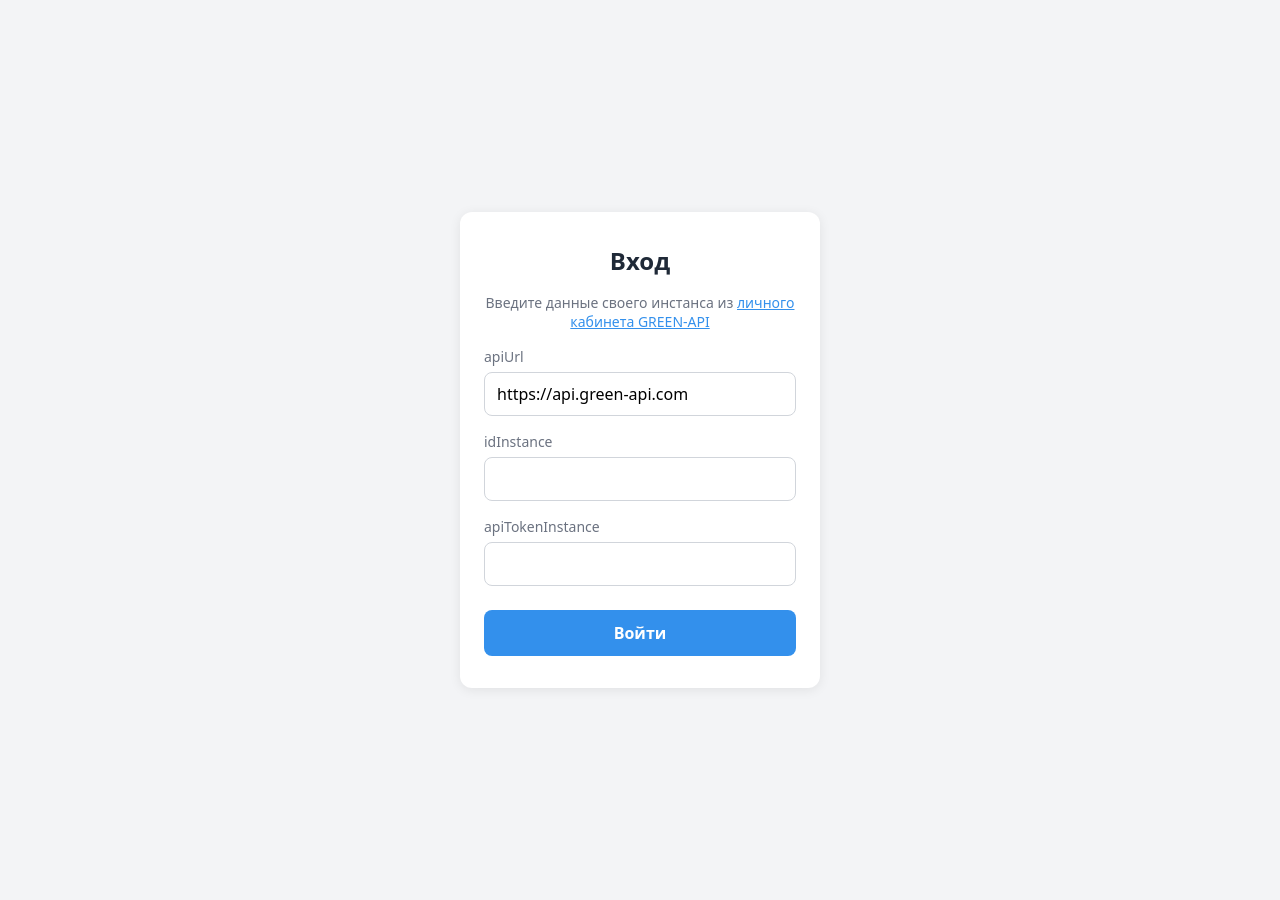
Test case: App › opens the chat page after successful login and saves the session
Type "4100000001" into the field labelled "idInstance" at (640, 479), box [484,457,796,501]
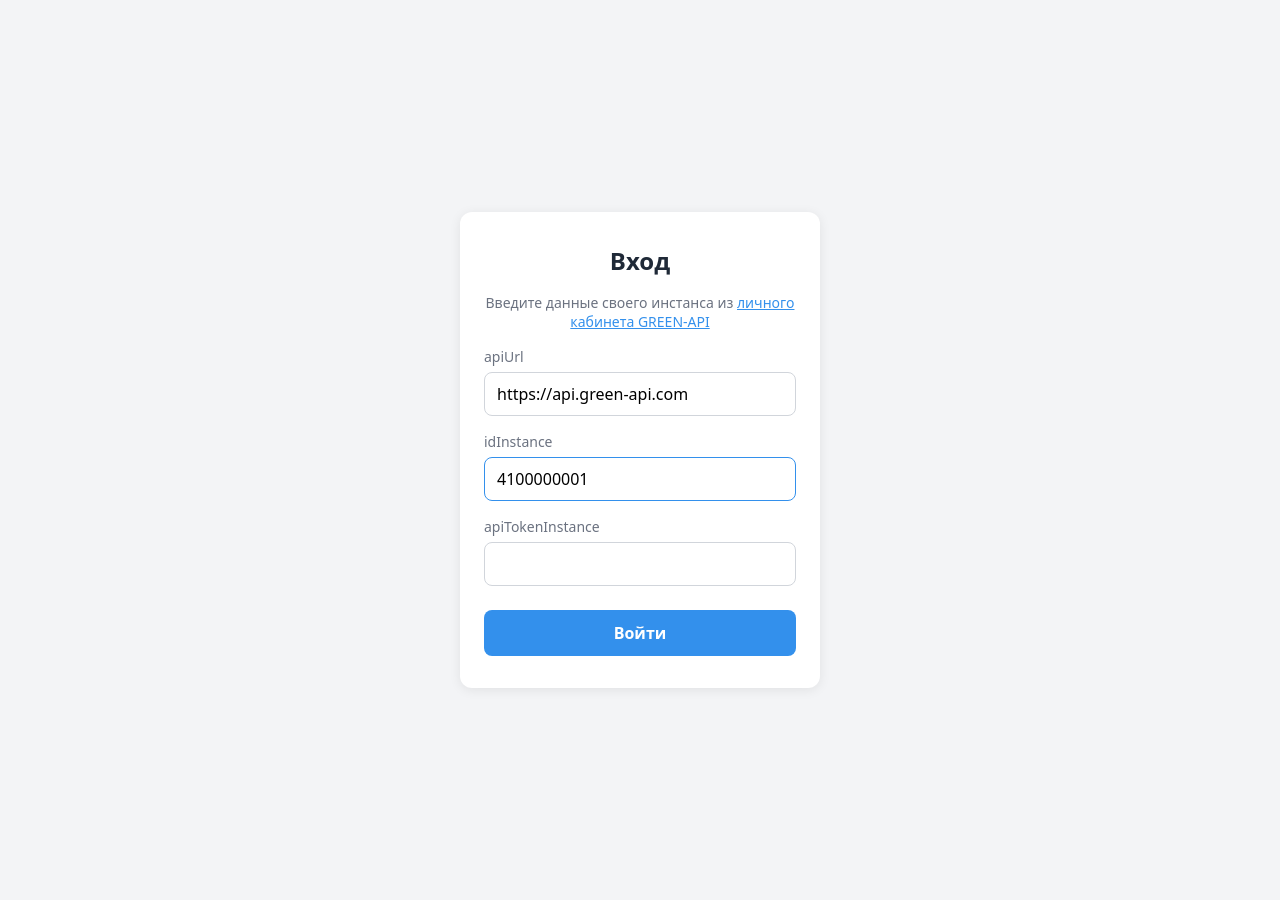
Type "pass123" into the password field labelled "apiTokenInstance" at (640, 564), box [484,542,796,586]
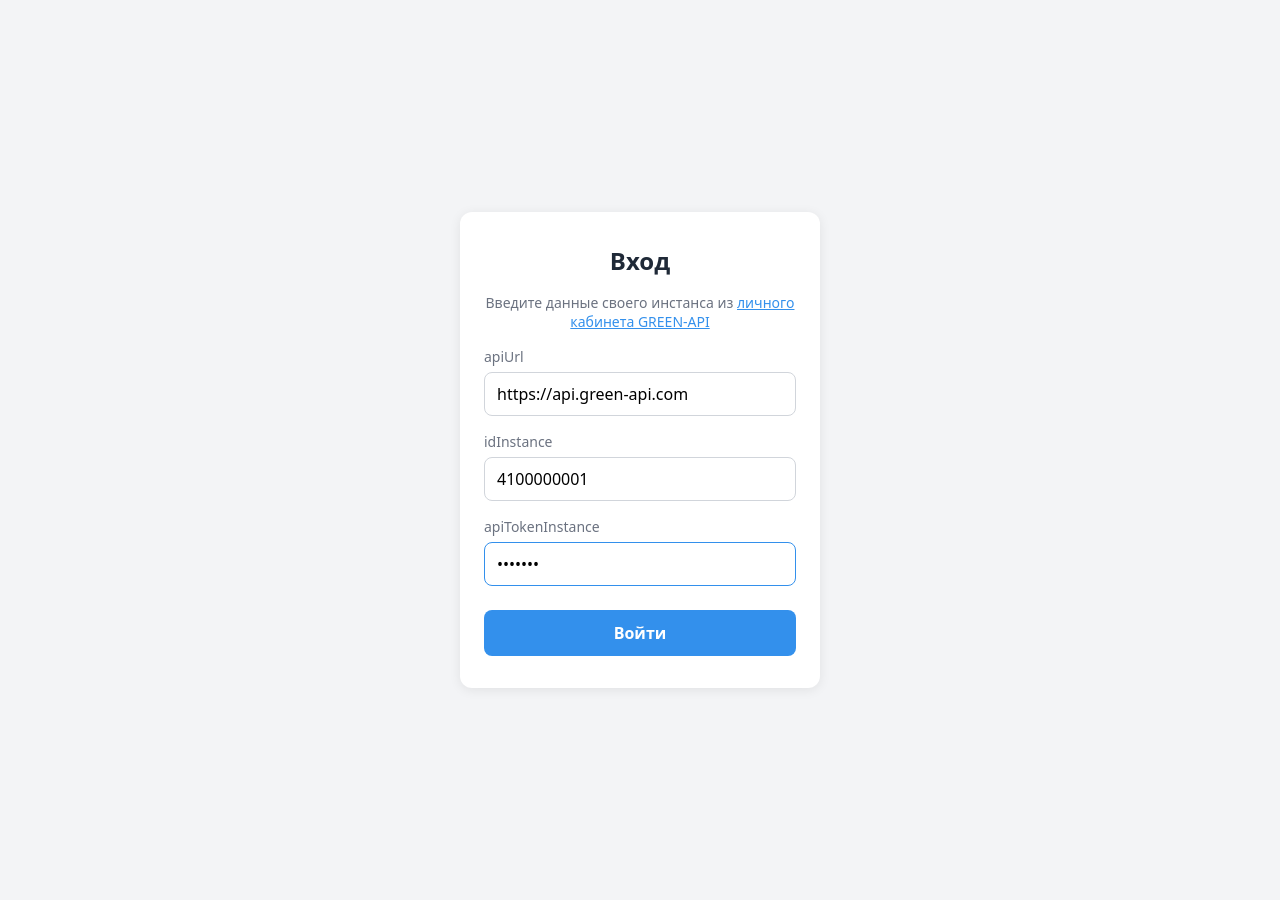
Click the button "Войти" at (640, 633), box [484,610,796,656]
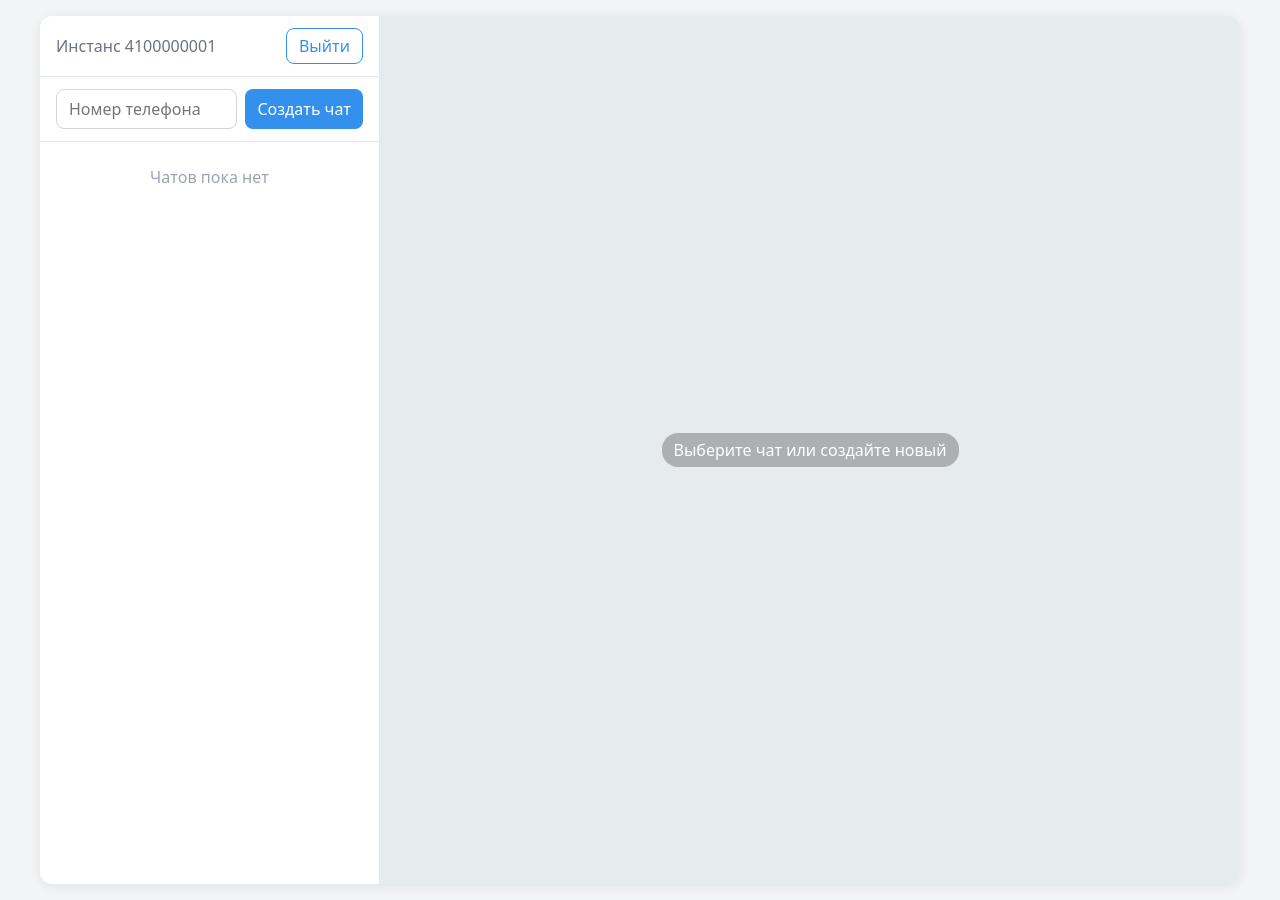
Check: the text "Инстанс 4100000001" is shown, box [56,35,216,57]
